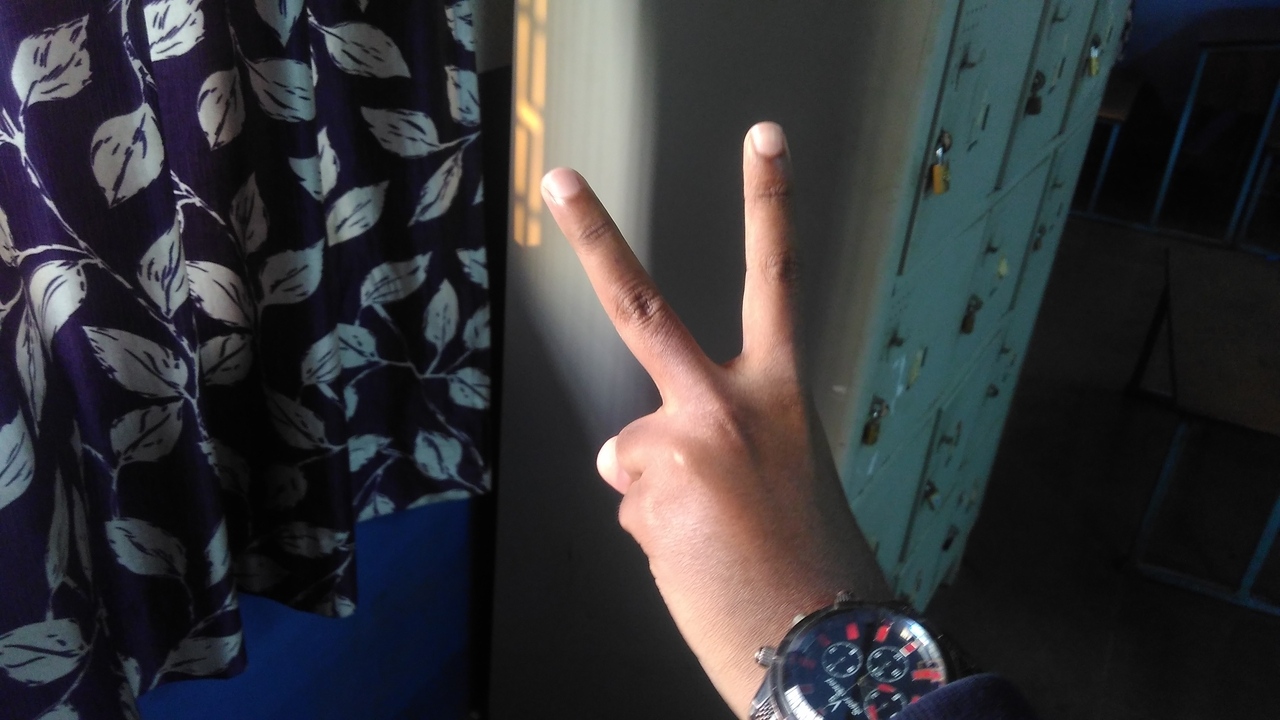fingertip: (532, 158, 594, 218), (738, 118, 792, 172)
